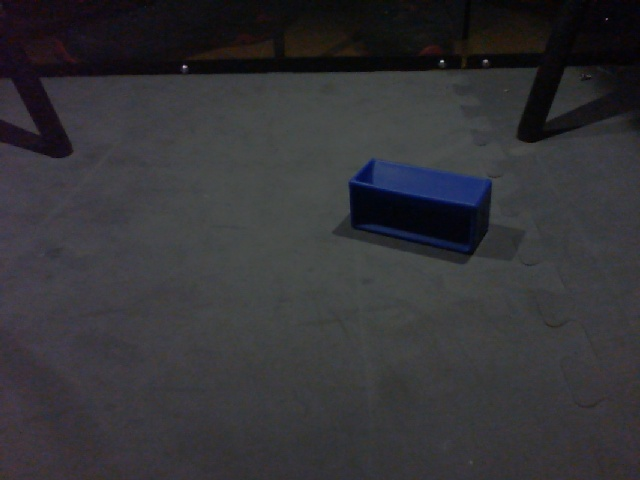BlueSample: (345, 154, 494, 261)
